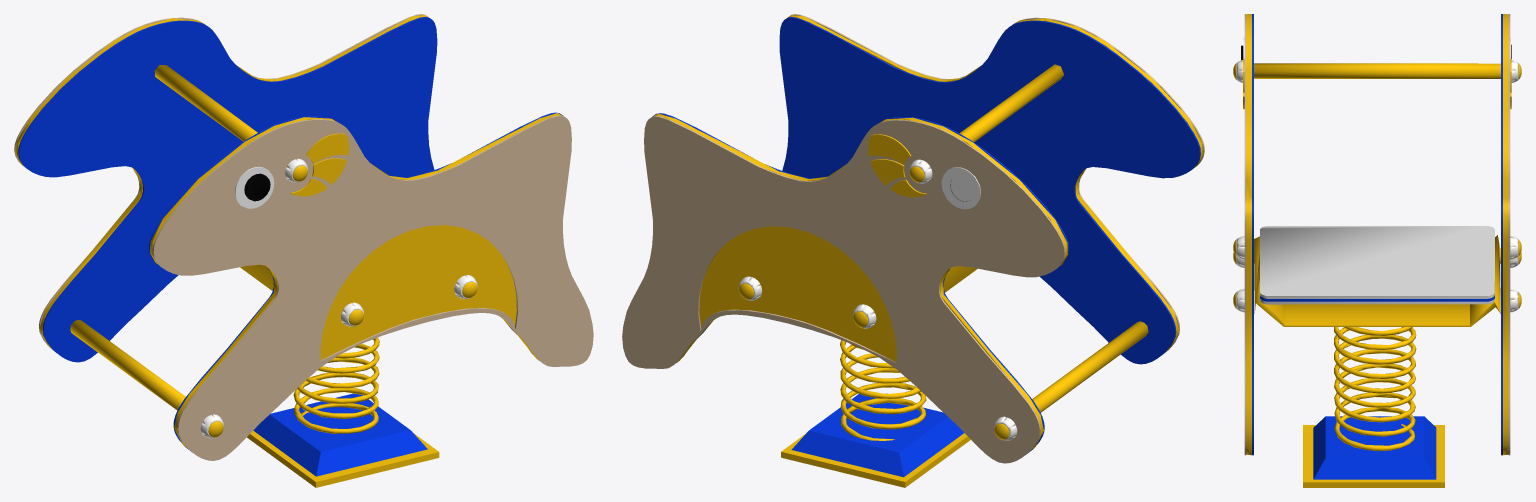
The model's file is spring1.fbx.
3 renders of one model, left to right at view 1: azimuth 30°, elevation 25°; view 2: azimuth 150°, elevation 25°; view 3: azimuth 270°, elevation 25°, orthographic. The views are drawn at different scales.
Parts seen in each view (by area): view 1: Line07, Line02, Line06, Box03, Cylinder04, Helix01, Box04, Donut01, DOUGHNUT02, DOUGHNUT CAP02, Circle005; view 2: Line07, Line02, Line06, Box03, Cylinder04, Helix01, Box04, Donut02, Circle005, DOUGHNUT02, DOUGHNUT CAP02; view 3: Rectangle03, Box03, Helix01, Line01, Line06, Cylinder04, Line07, Box04, Line02, DOUGHNUT02, Rectangle01, Rectangle02 (+1 smaller).
Boxes of the visible parts, x1,y1,x2,y2 form: Line07: (14, 14, 593, 460); Line02: (18, 17, 563, 449); Line06: (15, 15, 562, 447); Box03: (253, 393, 427, 476); Cylinder04: (70, 65, 257, 410); Helix01: (293, 337, 379, 433); Box04: (247, 430, 439, 487); Donut01: (291, 133, 348, 196); DOUGHNUT02: (200, 158, 477, 438); DOUGHNUT CAP02: (208, 165, 477, 437); Circle005: (235, 166, 274, 208); Line07: (622, 14, 1204, 463); Line02: (652, 17, 1200, 454); Line06: (653, 15, 1203, 449); Box03: (791, 394, 963, 477); Cylinder04: (959, 64, 1148, 412); Helix01: (840, 340, 926, 440); Box04: (781, 433, 970, 487); Donut02: (868, 134, 926, 197); Circle005: (941, 167, 980, 209); DOUGHNUT02: (738, 159, 1017, 440); DOUGHNUT CAP02: (739, 166, 1009, 439); Rectangle03: (1260, 226, 1494, 298); Box03: (1313, 416, 1436, 479); Helix01: (1334, 327, 1416, 451); Line01: (1254, 235, 1500, 326); Line06: (1246, 14, 1508, 455); Cylinder04: (1254, 63, 1500, 263); Line07: (1244, 14, 1510, 455); Box04: (1303, 425, 1444, 487); Line02: (1252, 14, 1502, 455); DOUGHNUT02: (1236, 60, 1518, 312); Rectangle01: (1260, 298, 1494, 304); Rectangle02: (1260, 295, 1494, 301).
Bounding box in the file's own units: 78.36 × 68.38 × 46.74.
